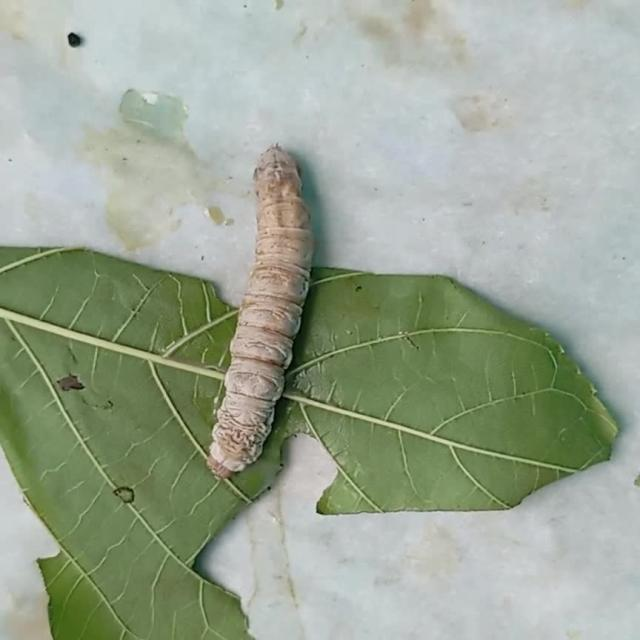Grasserie: (201, 136, 330, 481)
